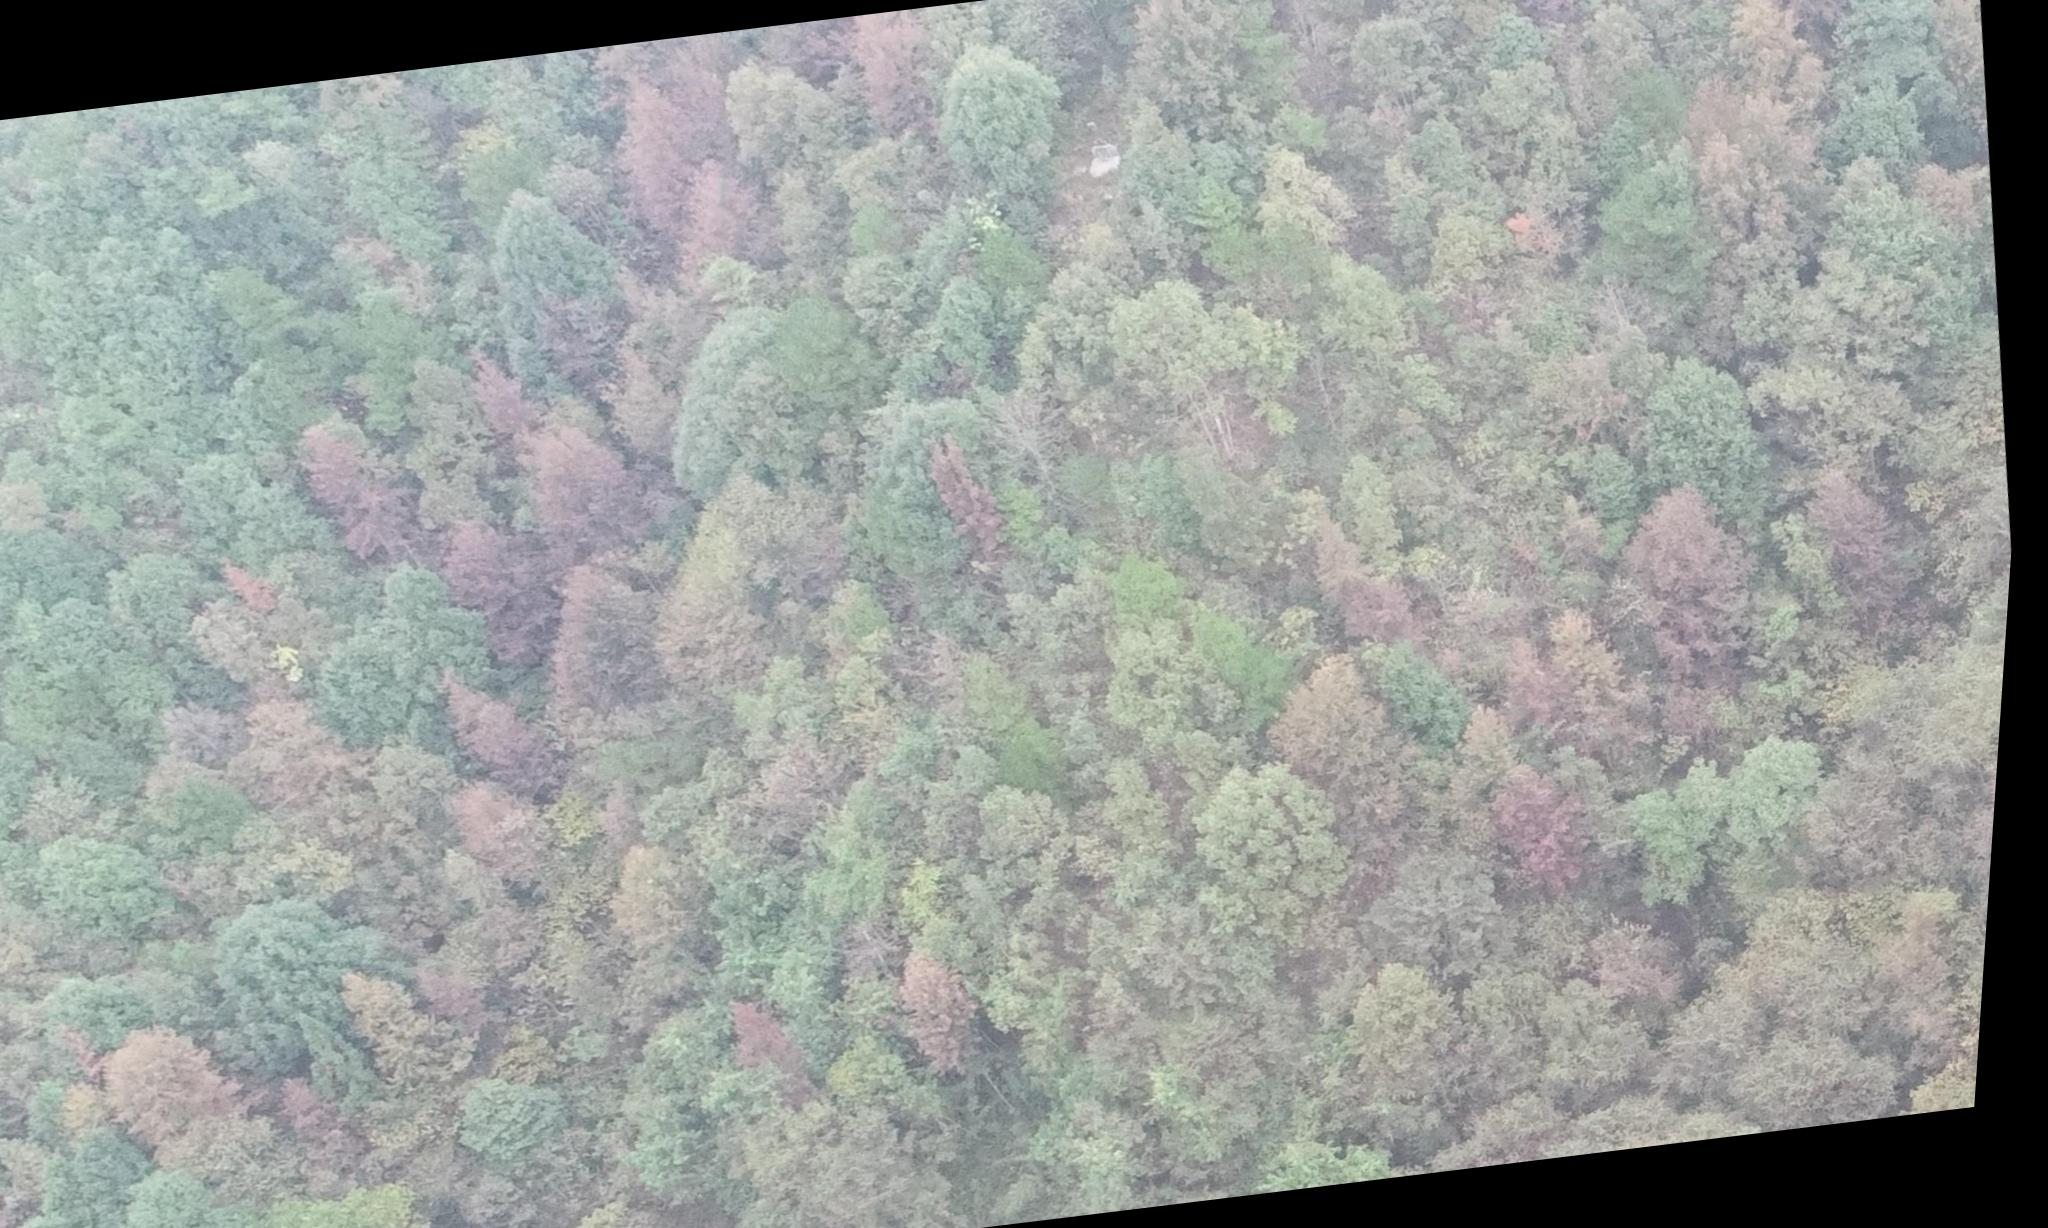heavy: (270, 345, 772, 744), (539, 19, 925, 342)
